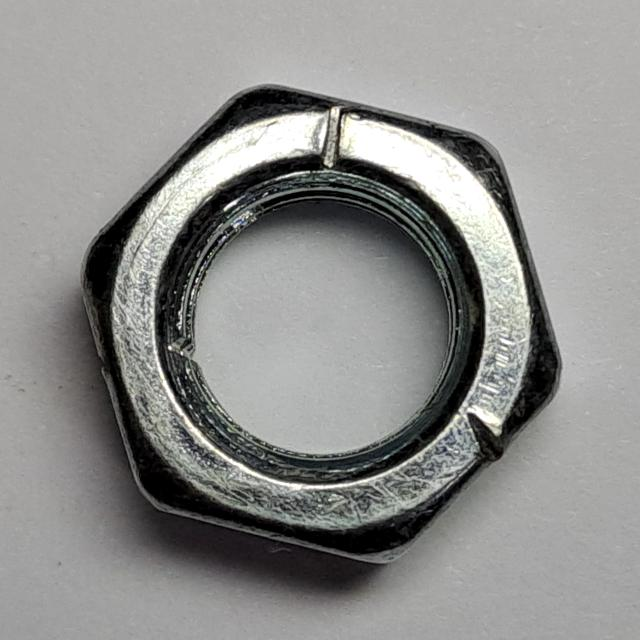Scratches: (75, 68, 577, 578)
